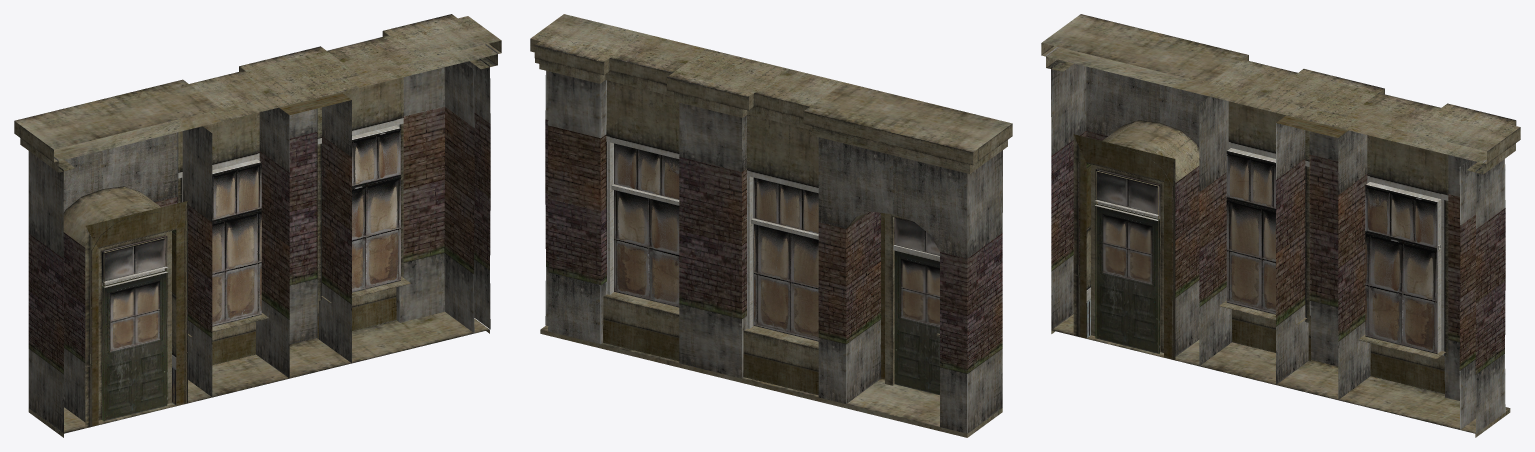
Rendered from Store_front_37.fbx.
The picture shows the model from 3 angles, left to right: view 1: azimuth 30°, elevation 25°; view 2: azimuth 150°, elevation 25°; view 3: azimuth 330°, elevation 25°; orthographic projection.
Visible parts, largest first — view 1: Store_front_37; view 2: Store_front_37; view 3: Store_front_37.
Part boxes in pixels (left/top/right/bottom): Store_front_37: left=14, top=14, right=501, bottom=437; Store_front_37: left=530, top=14, right=1012, bottom=437; Store_front_37: left=1041, top=14, right=1520, bottom=437.
Bounding box in the file's own units: 735 × 456 × 113.
